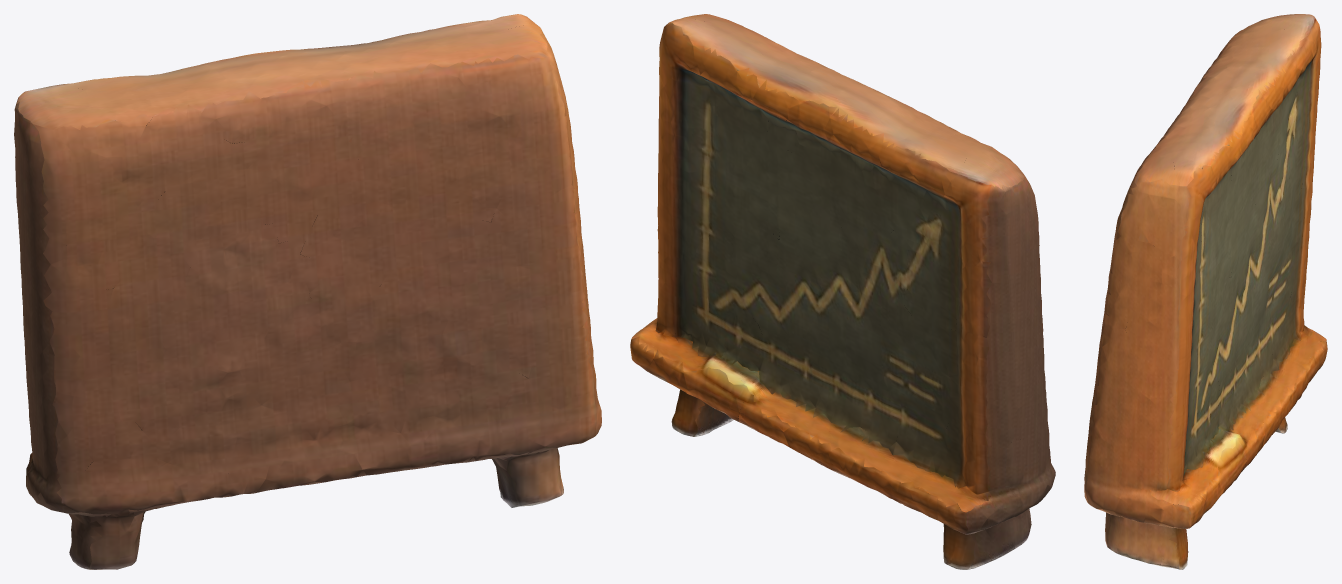
The model's file is board.glb.
3 renders of one model, left to right at view 1: azimuth 30°, elevation 25°; view 2: azimuth 150°, elevation 25°; view 3: azimuth 270°, elevation 25°, orthographic. The views are drawn at different scales.
Visible parts, largest first — view 1: world; view 2: world; view 3: world.
Boxes of the visible parts, x1,y1,x2,y2 form: world: [14, 14, 601, 569]; world: [630, 14, 1055, 569]; world: [1084, 14, 1327, 569].
Bounding box in the file's own units: 0.9048 × 0.8357 × 0.4453.
1 material, 1 textured.
